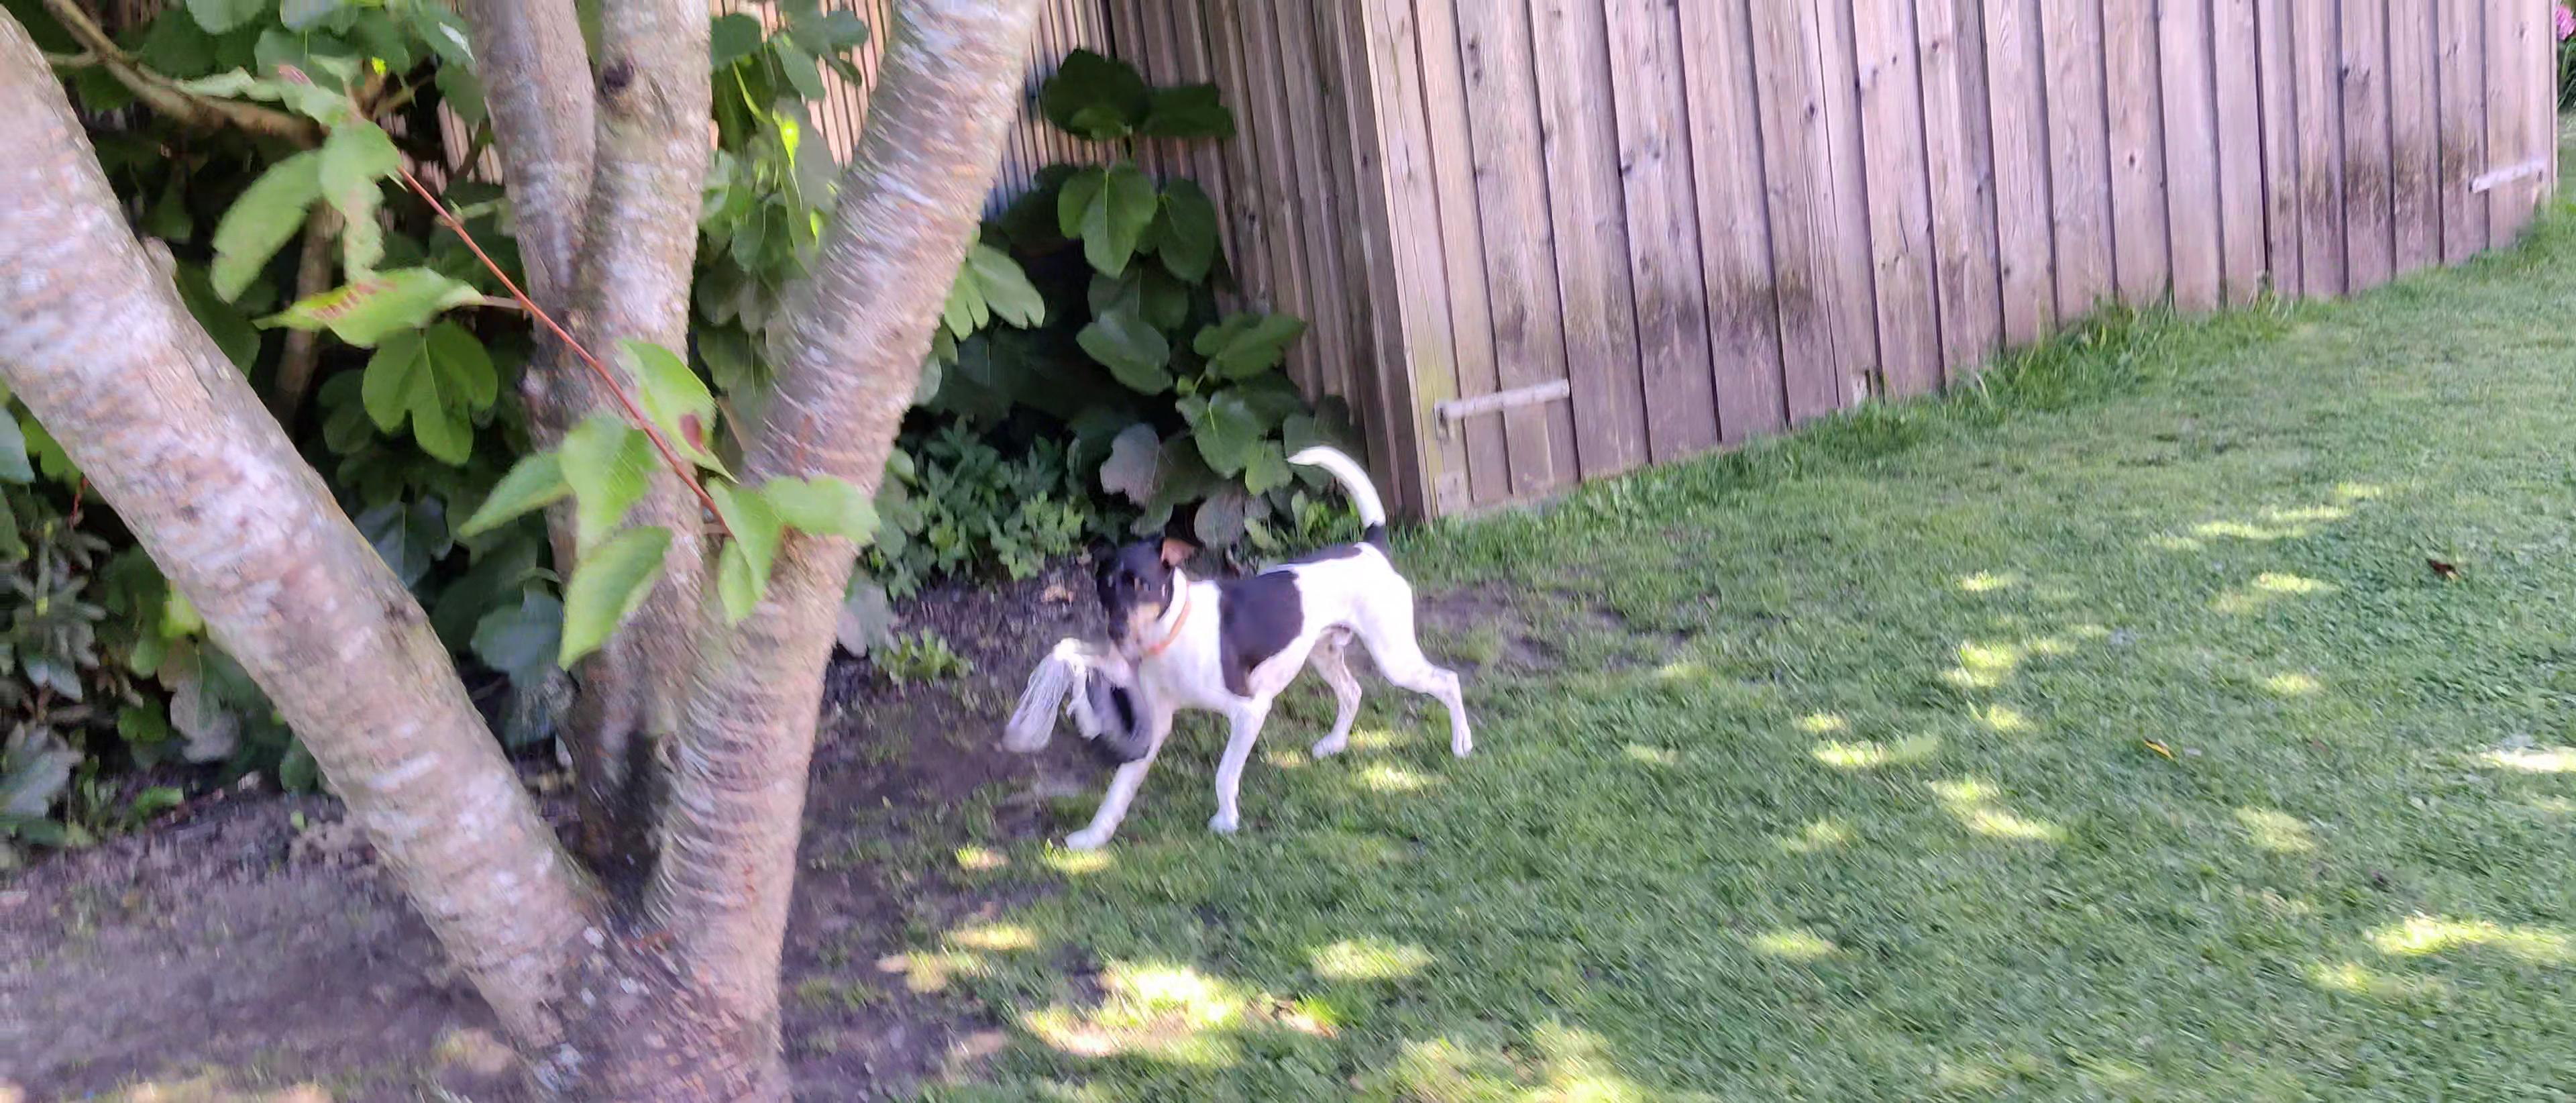Dog: (1030, 437, 1487, 866)
